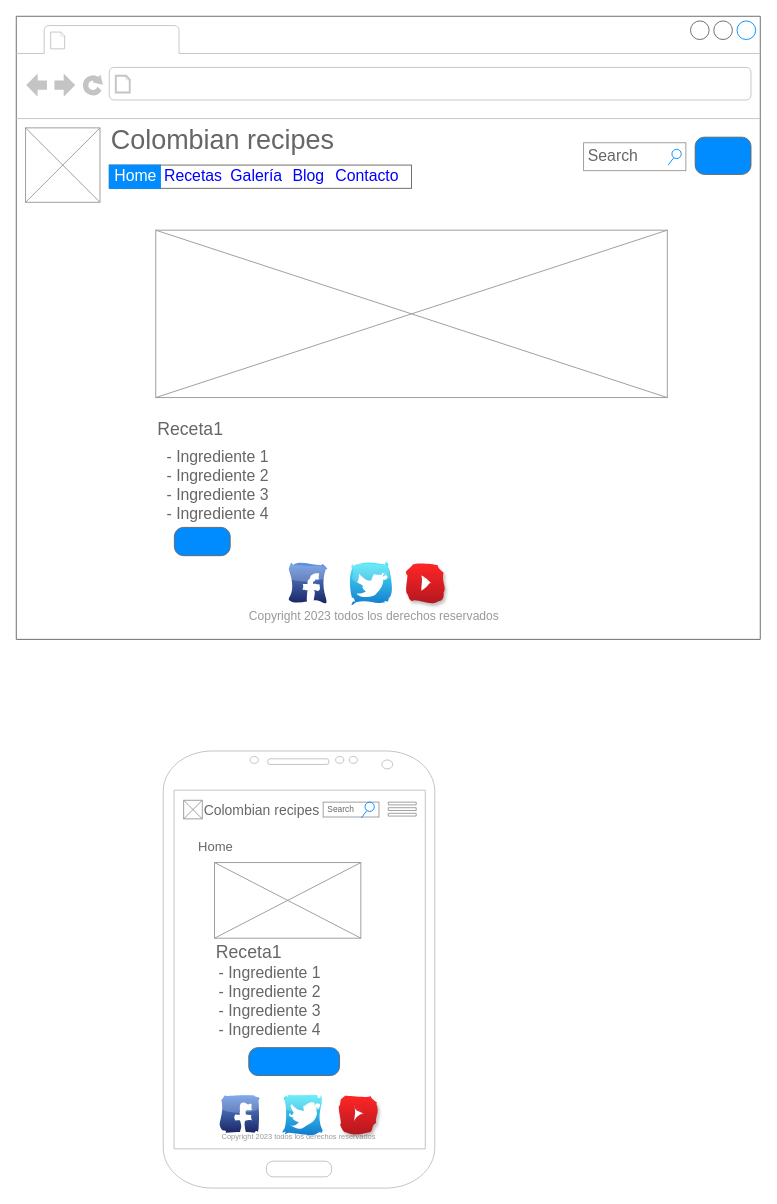
Image size: 777x1204. Some labels were removed from this diagram. Each missing label, with the centre of its shape:
"Buscar" goes at [722,155].
"Home - Col.." goes at [122,39].
"https://colombian-recipes.com" goes at [253,83].
"ver" goes at [201,541].
"ver recetas" goes at [294,1061].
